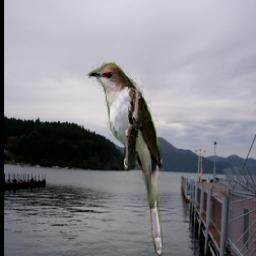Cuckoo: (87, 63, 164, 256)
